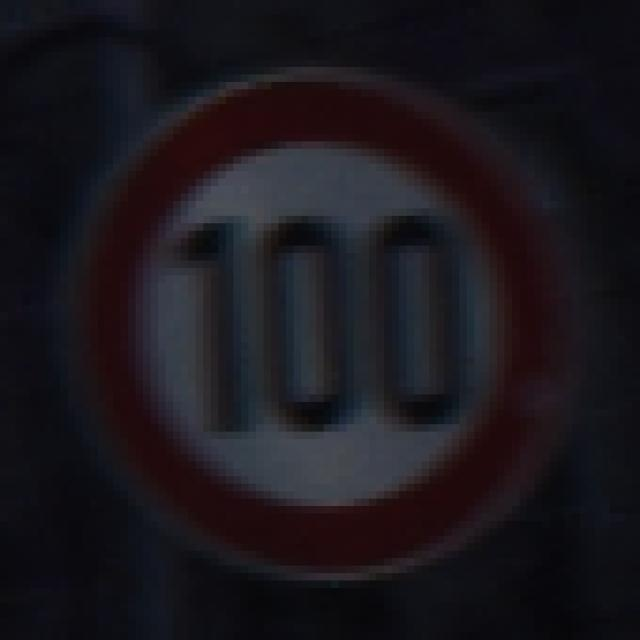speed limit 100: (60, 68, 569, 590)
